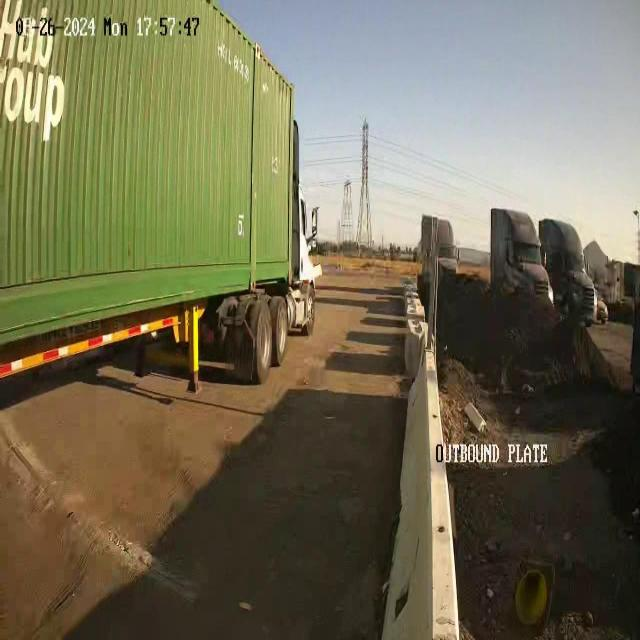TRUCK_CONTAINER: (1, 0, 316, 390)
